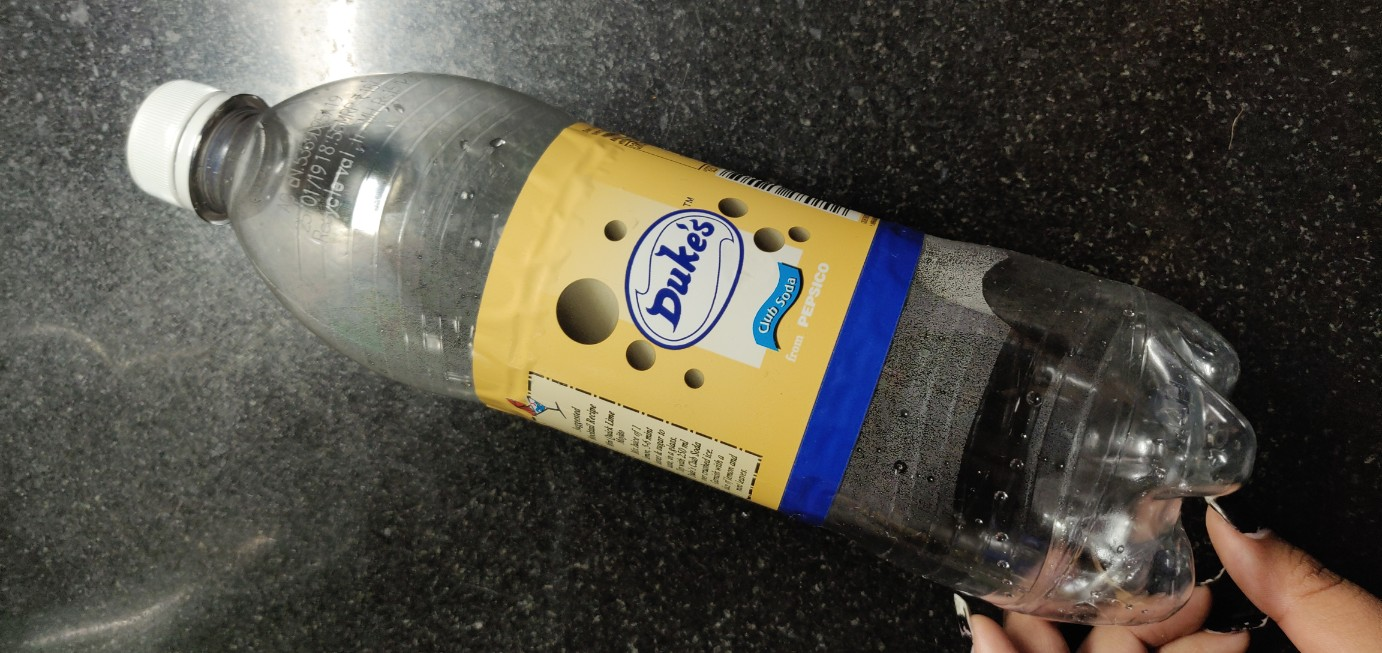Electronics: (101, 38, 1299, 637)
